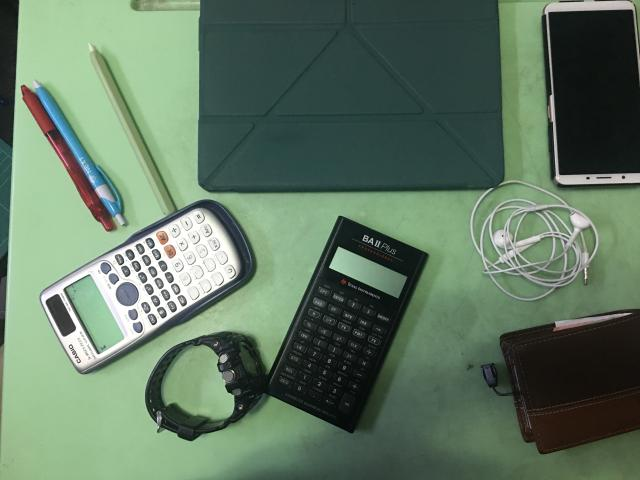Mobile phone: (542, 1, 640, 186)
Pen: (21, 85, 115, 231), (34, 80, 125, 224)
Wallet: (500, 310, 640, 454)
Watch: (145, 331, 266, 441)
wire: (470, 181, 599, 301)
